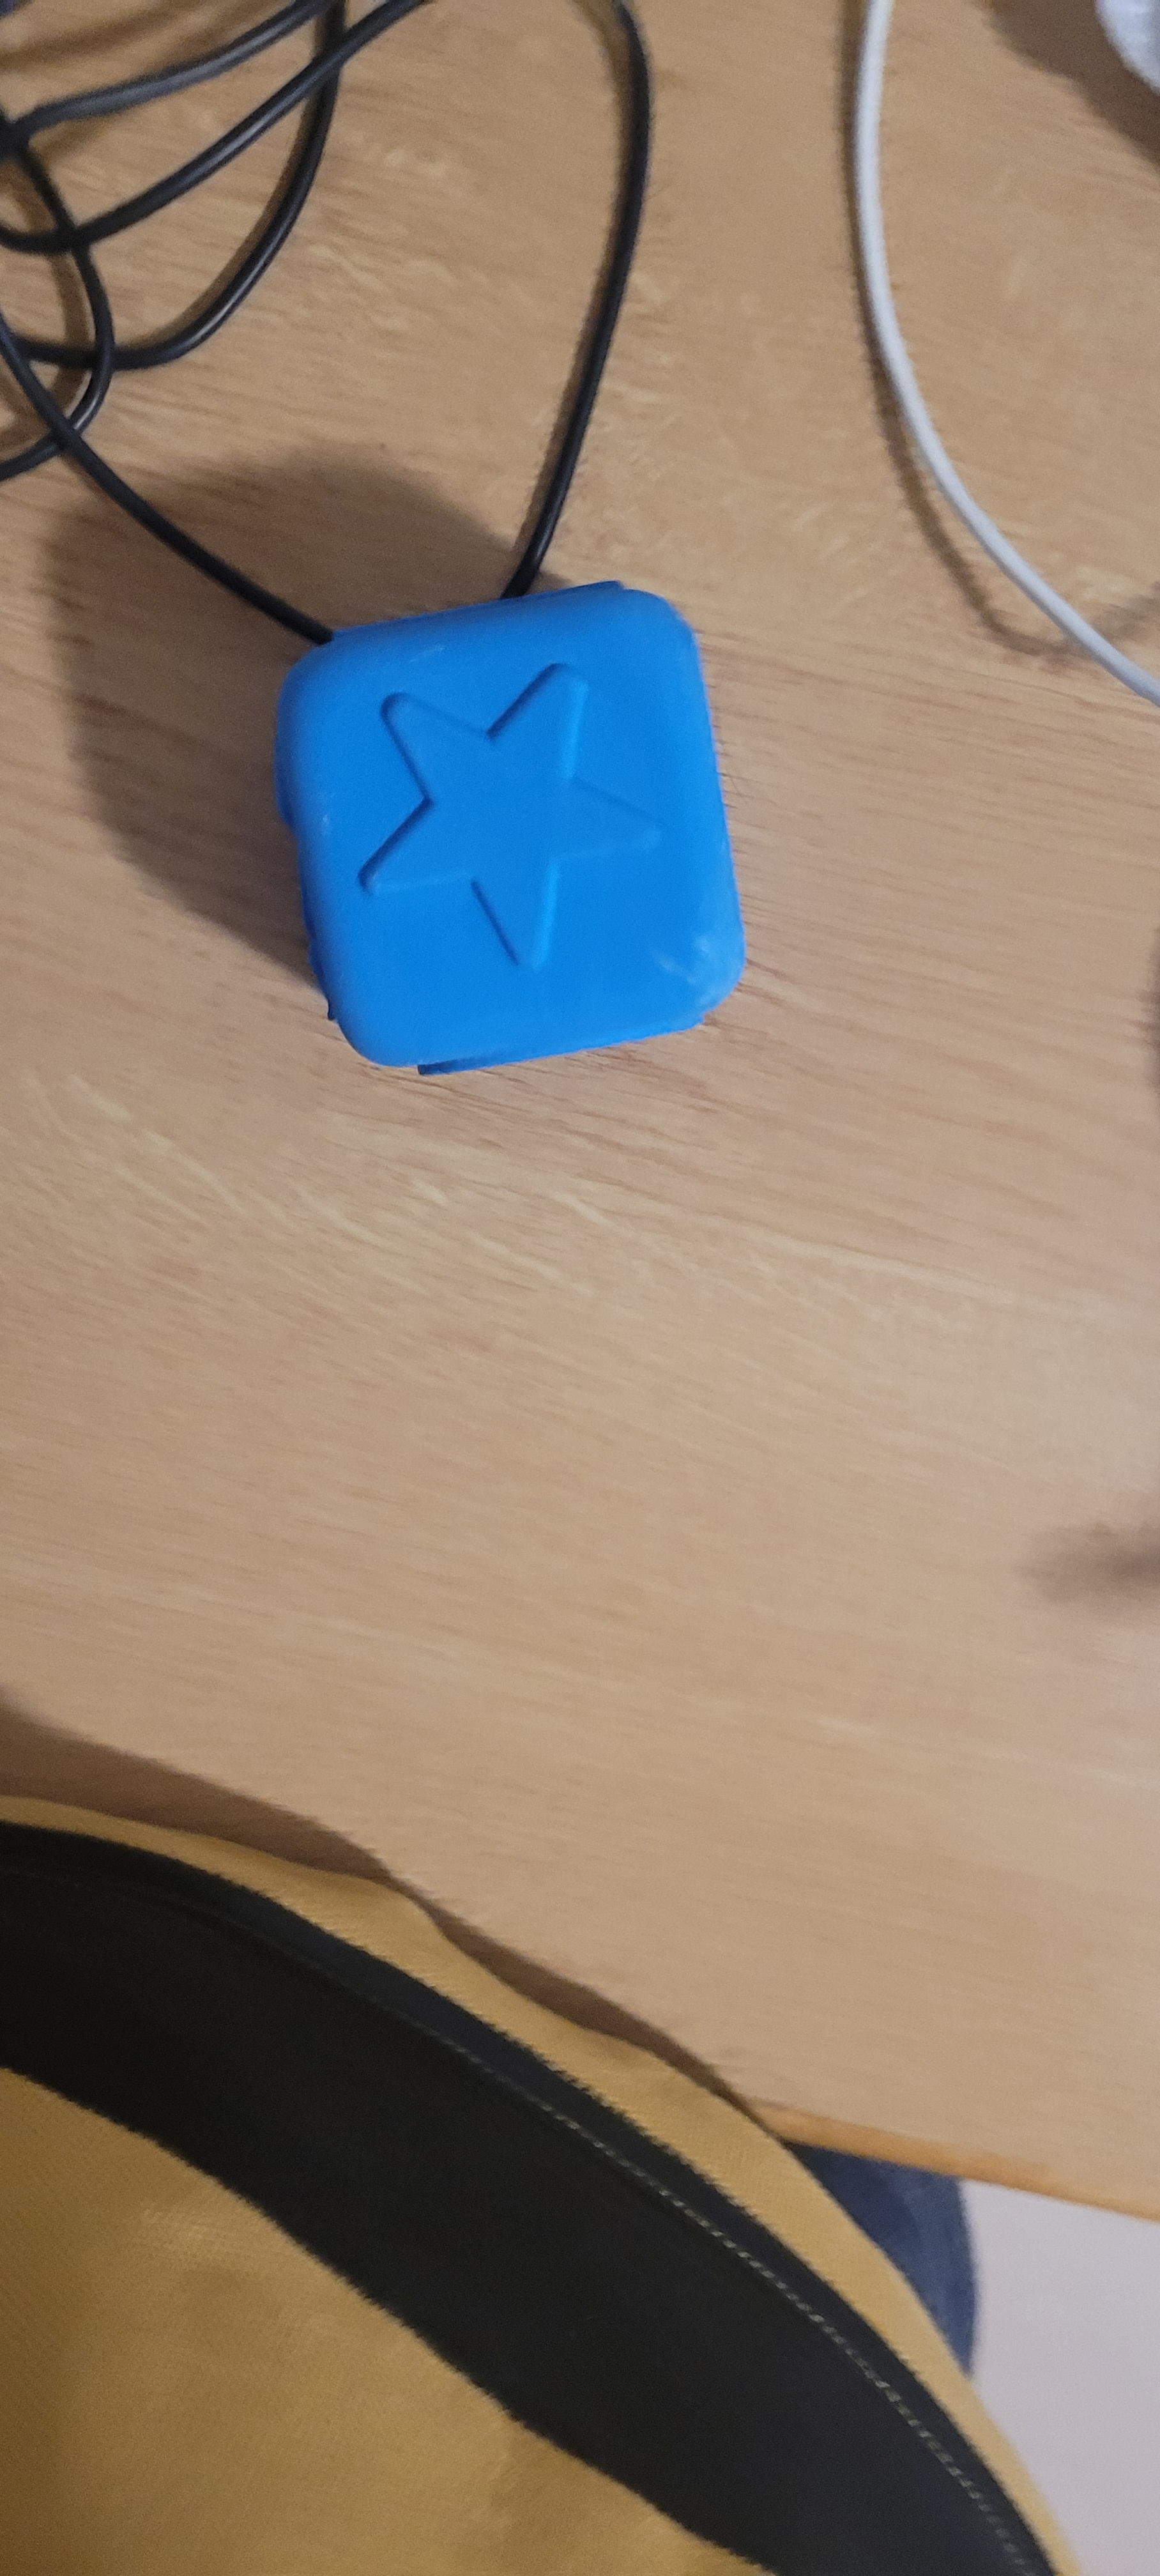Star: (301, 669, 728, 1004)
